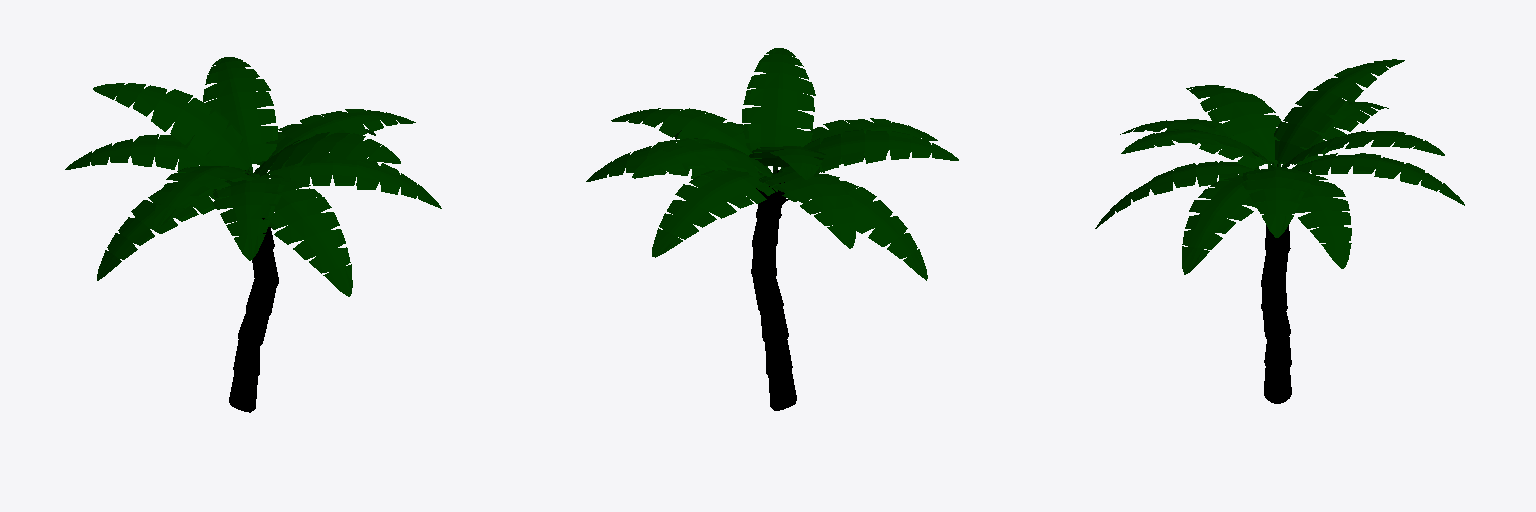
Rendered from copaPalma.obj.
3 renders of one model, left to right at view 1: azimuth 30°, elevation 25°; view 2: azimuth 150°, elevation 25°; view 3: azimuth 270°, elevation 25°, orthographic.
Bounding box in the file's own units: 23.09 × 20.99 × 23.31.